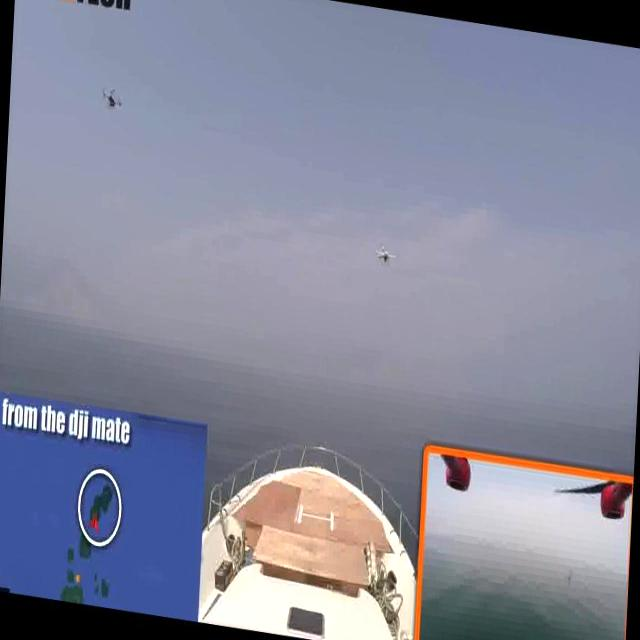drone: (95, 77, 126, 116), (371, 237, 398, 274)
